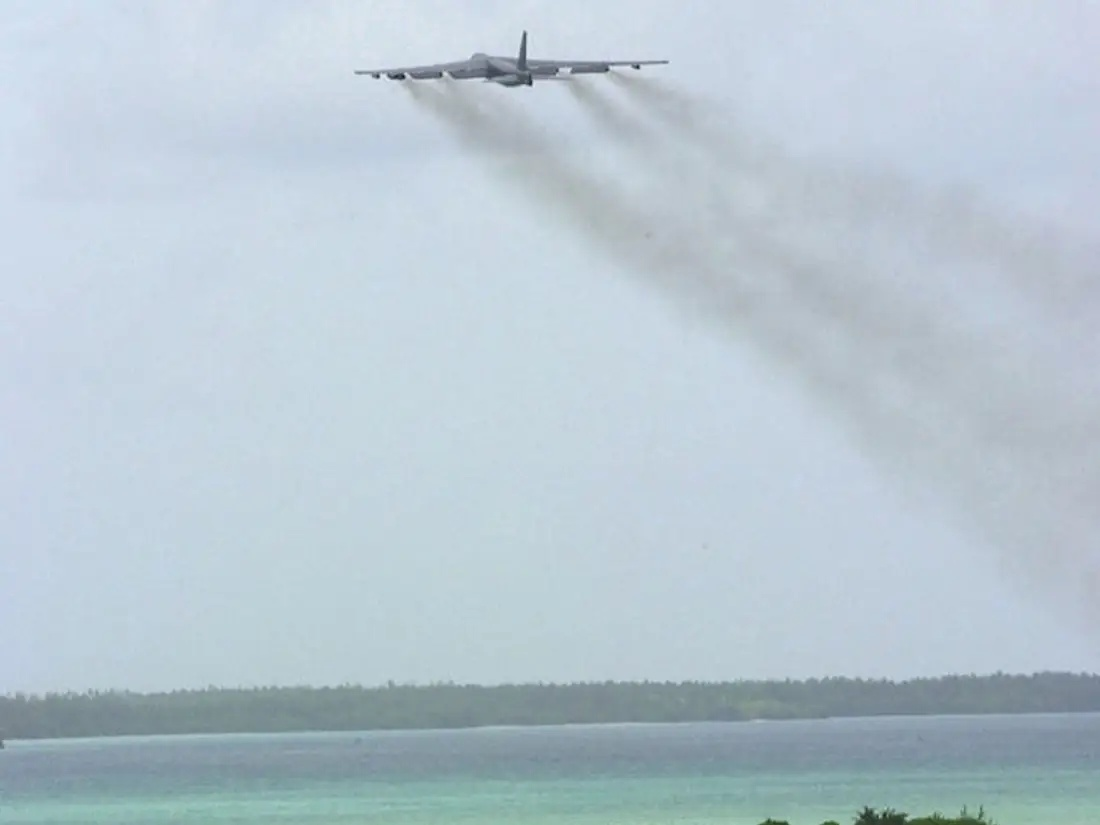B52: (352, 29, 670, 89)
